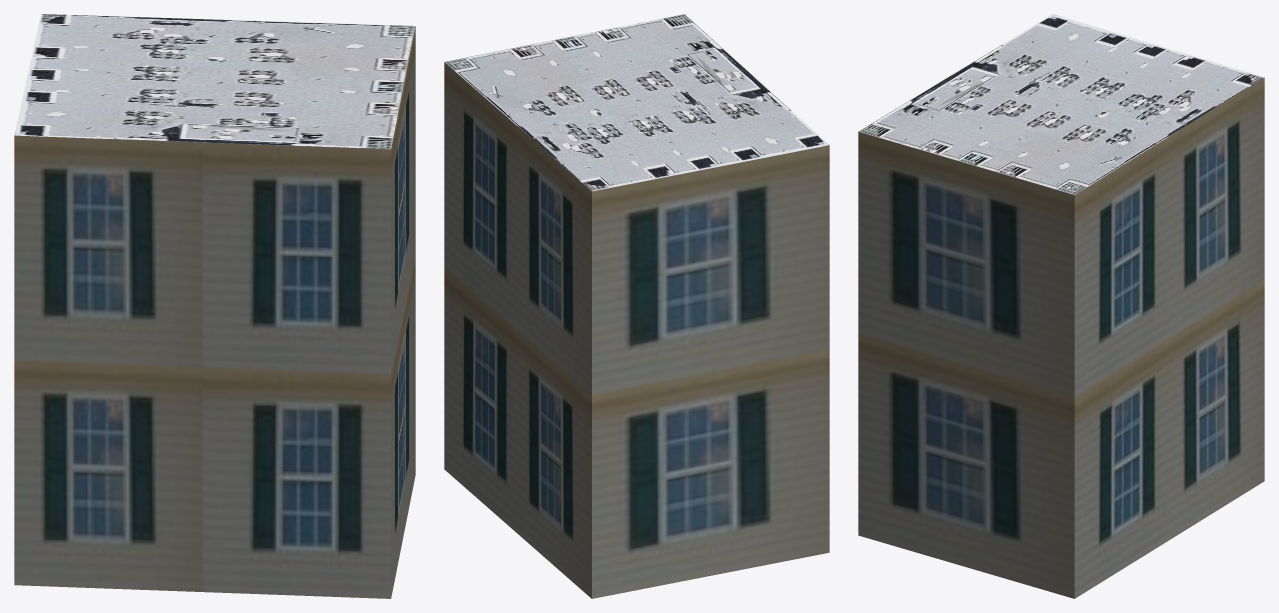
File: ResTex__689.fbx
3 renders of one model, left to right at view 1: azimuth 30°, elevation 25°; view 2: azimuth 150°, elevation 25°; view 3: azimuth 270°, elevation 25°, orthographic. The views are drawn at different scales.
Parts seen in each view (by area): view 1: CityEngineMaterial_7_m, CityEngineMaterial_8_m; view 2: CityEngineMaterial_7_m, CityEngineMaterial_8_m; view 3: CityEngineMaterial_7_m, CityEngineMaterial_8_m.
Boxes of the visible parts, box(x1,y1,x2,y2) form: CityEngineMaterial_7_m: box(14, 26, 415, 598); CityEngineMaterial_8_m: box(14, 14, 415, 149); CityEngineMaterial_7_m: box(444, 62, 829, 598); CityEngineMaterial_8_m: box(444, 14, 829, 191); CityEngineMaterial_7_m: box(858, 77, 1264, 598); CityEngineMaterial_8_m: box(859, 14, 1264, 194).
Bounding box in the file's own units: 5.77 × 6 × 5.47.
2 materials, 2 textured.
